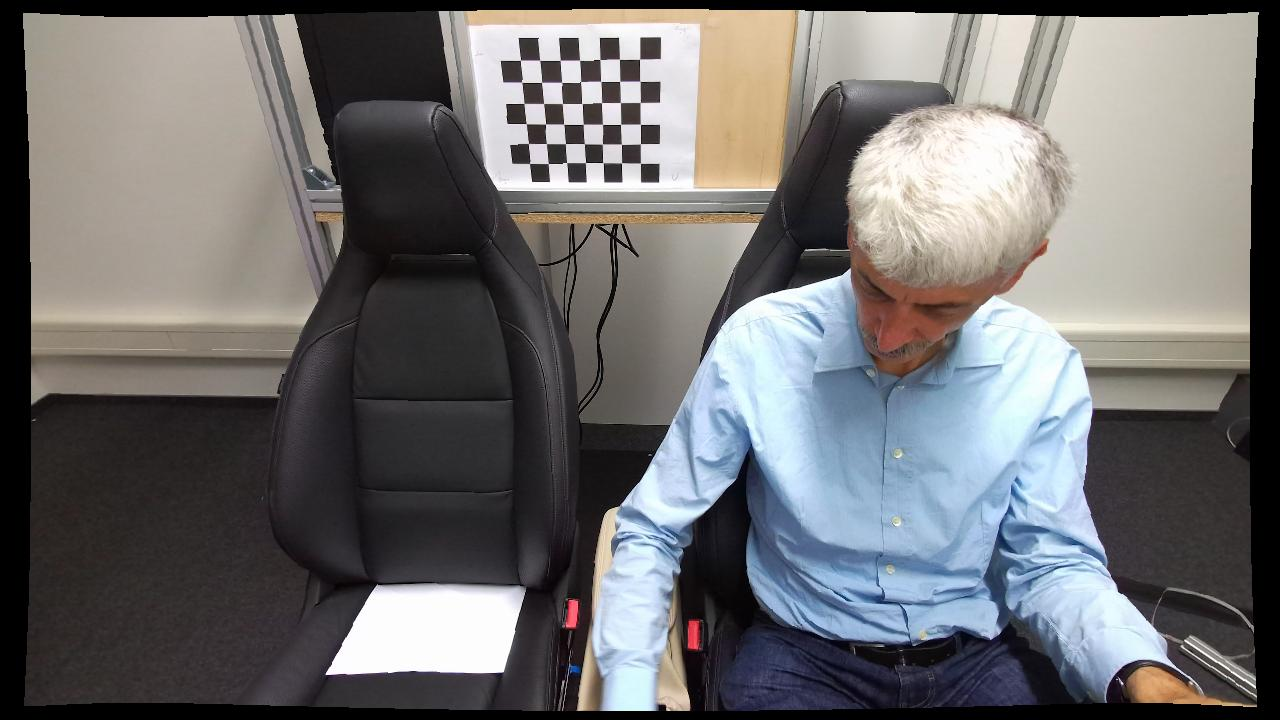Distracted: (601, 106, 1094, 711)
